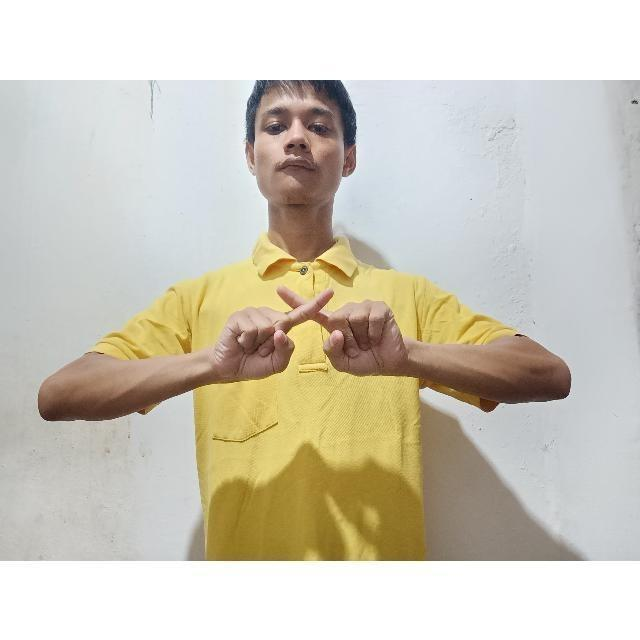X: (210, 280, 413, 386)
